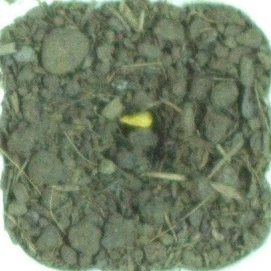chilli seed: (117, 109, 158, 130)
